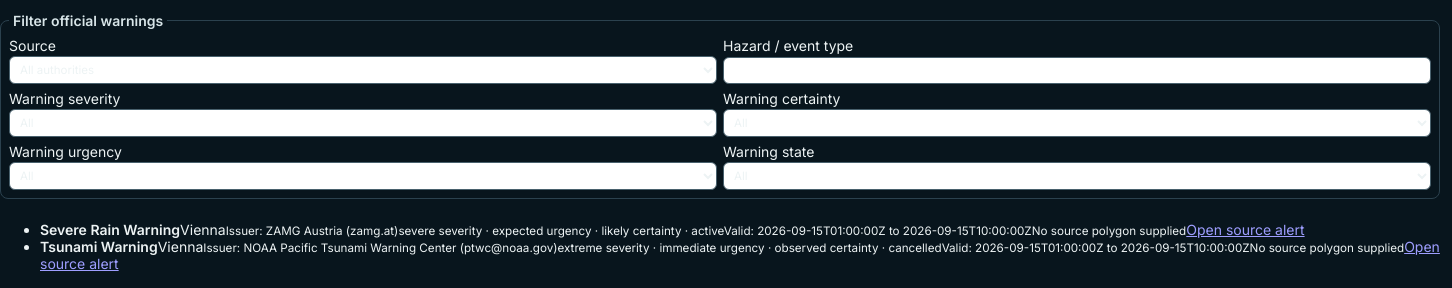
Test case: AuthorityWarningList › filters on authority-first CAP dimensions and always shows issuer/validity
This screenshot has width=1452, height=288.
Expected: the text "Issuer: ZAMG Austria (zamg.at)" is shown, left=226, top=224, right=398, bottom=238
Expected: the text "Valid: 2026-09-15T01:00:00Z to 2026-09-15T10:00:00Z" is shown 2 times, left=724, top=224, right=1032, bottom=238; left=942, top=241, right=1250, bottom=255
Select "cancelled" in the dropdown labelled "Warning state" at (1077, 176), box left=723, top=162, right=1431, bottom=190
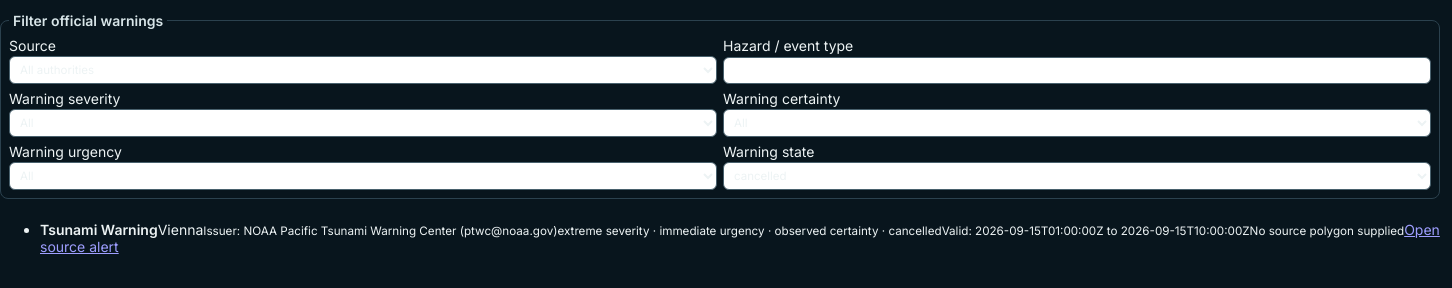
Expected: the text "Tsunami Warning" is shown, left=40, top=221, right=158, bottom=238
Expected: the text "Severe Rain Warning" is gone
Select "severe" in the dropdown labelled "Warning severity" at (363, 123), box left=9, top=109, right=717, bottom=137
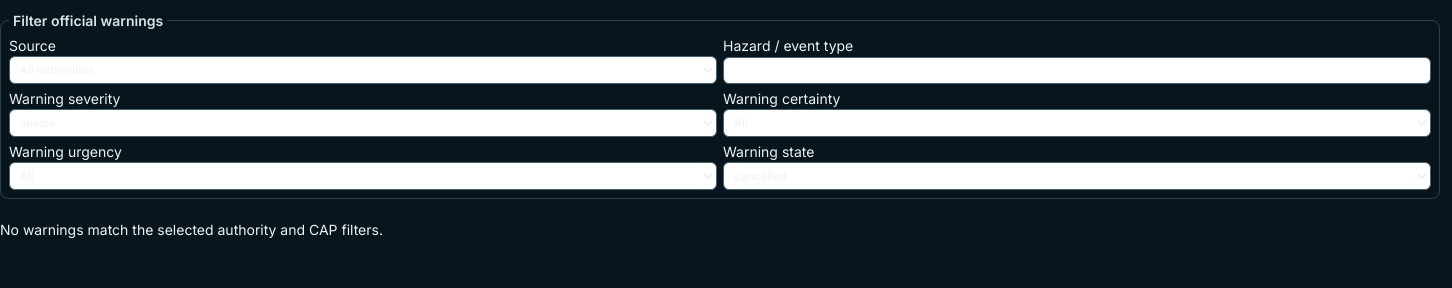
Expected: the text "No warnings match the selected authority and CAP filters." is shown, left=0, top=221, right=383, bottom=238
